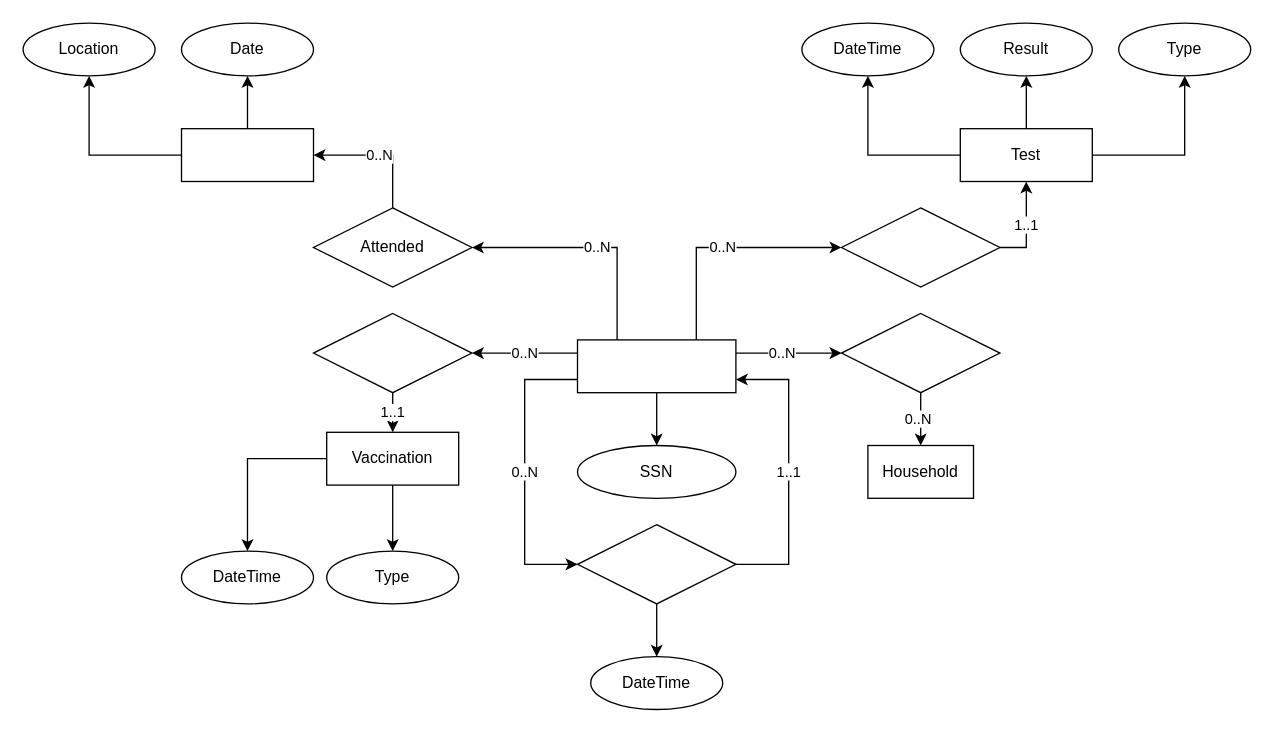
Image size: 1274x733. Some labels were removed from this diagram. The centre of each missing label's shape, as x and y in pixels:
BelongsTo: the point at 920,352
Contact: the point at 656,563
Event: the point at 247,154
HasDone: the point at 920,247
HasReceived: the point at 392,352
Person: the point at 656,366
